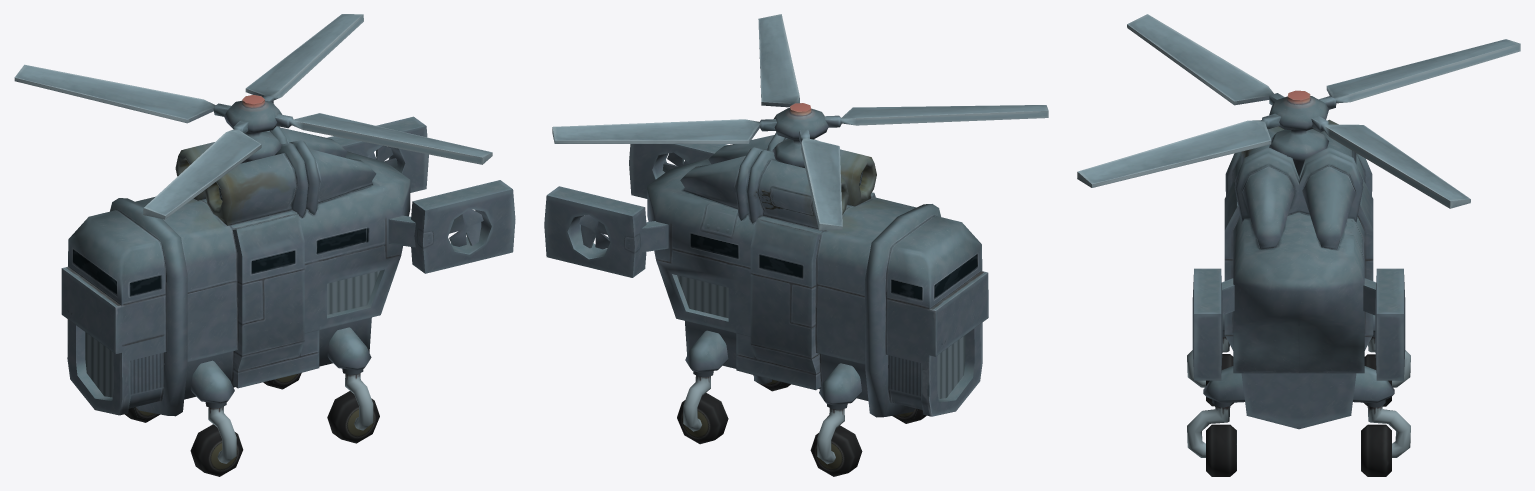
Rendered from Low_Poly_Helicopter.glb.
3 views of the same model, side by side, from view 1: azimuth 30°, elevation 25°; view 2: azimuth 150°, elevation 25°; view 3: azimuth 270°, elevation 25° (orthographic). The views are drawn at different scales.
Parts seen in each view (by area): view 1: SM_Helicopter_Lump_Plain_D_0, SM_Helicopter_Rotor_Lump_Plain_D_0, mWheel_front_left_Plain_D_0, mWheel_rear_left_Plain_D_0, SM_Helicopter_TailRotor_Lump_Plain_D_0, mLandingGear_rear_left_Plain_D_0, mLandingGear_front_left_Plain_D_0; view 2: SM_Helicopter_Lump_Plain_D_0, SM_Helicopter_Rotor_Lump_Plain_D_0, mWheel_front_right_Plain_D_0, mWheel_rear_right_Plain_D_0, SM_Helicopter_TailRotor_Lump_Plain_D_0, mLandingGear_front_right_Plain_D_0, mLandingGear_rear_right_Plain_D_0; view 3: SM_Helicopter_Lump_Plain_D_0, SM_Helicopter_Rotor_Lump_Plain_D_0, mWheel_rear_right_Plain_D_0, mWheel_rear_left_Plain_D_0, mLandingGear_rear_right_Plain_D_0, mLandingGear_rear_left_Plain_D_0.
Boxes of the visible parts, x1,y1,x2,y2 form: SM_Helicopter_Lump_Plain_D_0: (61,116,515,416); SM_Helicopter_Rotor_Lump_Plain_D_0: (14,14,492,219); mWheel_front_left_Plain_D_0: (190,424,243,476); mWheel_rear_left_Plain_D_0: (327,391,379,443); SM_Helicopter_TailRotor_Lump_Plain_D_0: (367,145,483,246); mLandingGear_rear_left_Plain_D_0: (345,373,373,430); mLandingGear_front_left_Plain_D_0: (208,406,236,463); SM_Helicopter_Lump_Plain_D_0: (544,132,988,417); SM_Helicopter_Rotor_Lump_Plain_D_0: (552,14,1048,230); mWheel_front_right_Plain_D_0: (810,425,862,476); mWheel_rear_right_Plain_D_0: (677,392,728,444); SM_Helicopter_TailRotor_Lump_Plain_D_0: (578,152,688,249); mLandingGear_front_right_Plain_D_0: (817,408,844,464); mLandingGear_rear_right_Plain_D_0: (683,375,710,431); SM_Helicopter_Lump_Plain_D_0: (1192,119,1405,429); SM_Helicopter_Rotor_Lump_Plain_D_0: (1077,14,1520,208); mWheel_rear_right_Plain_D_0: (1361,424,1391,476); mWheel_rear_left_Plain_D_0: (1206,424,1236,476); mLandingGear_rear_right_Plain_D_0: (1367,406,1410,457); mLandingGear_rear_left_Plain_D_0: (1187,406,1230,457).
Size of the model in its own units: 230 by 184 by 212.
1 material, 1 textured.
